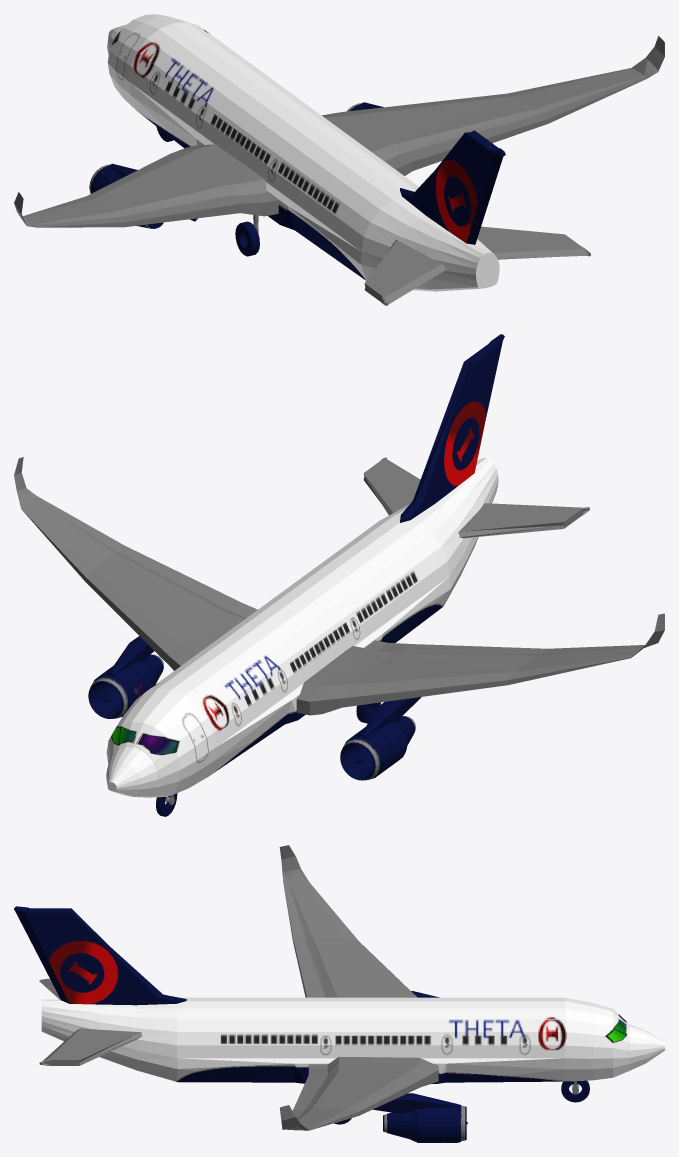
The model's file is airliner.obj.
3 renders of one model, top to bottom at view 1: azimuth 30°, elevation 25°; view 2: azimuth 150°, elevation 25°; view 3: azimuth 270°, elevation 25°, orthographic. The views are drawn at different scales.
Visible parts, largest first — view 1: plane_basic; view 2: plane_basic; view 3: plane_basic.
Part boxes in pixels (left/top/right/bottom): plane_basic: left=14, top=14, right=664, bottom=305; plane_basic: left=14, top=334, right=664, bottom=816; plane_basic: left=14, top=845, right=664, bottom=1142.
Bounding box in the file's own units: 254 × 88.59 × 268.
Materials: 1 (1 with a texture image).
